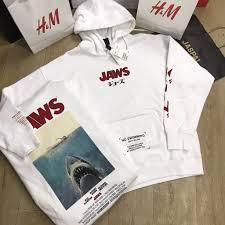sweater: (1, 2, 211, 181)
